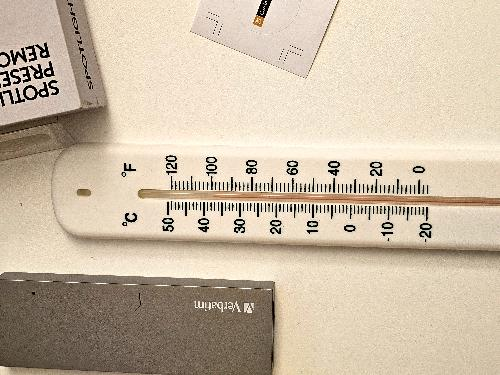thermo: (51, 136, 500, 254)
